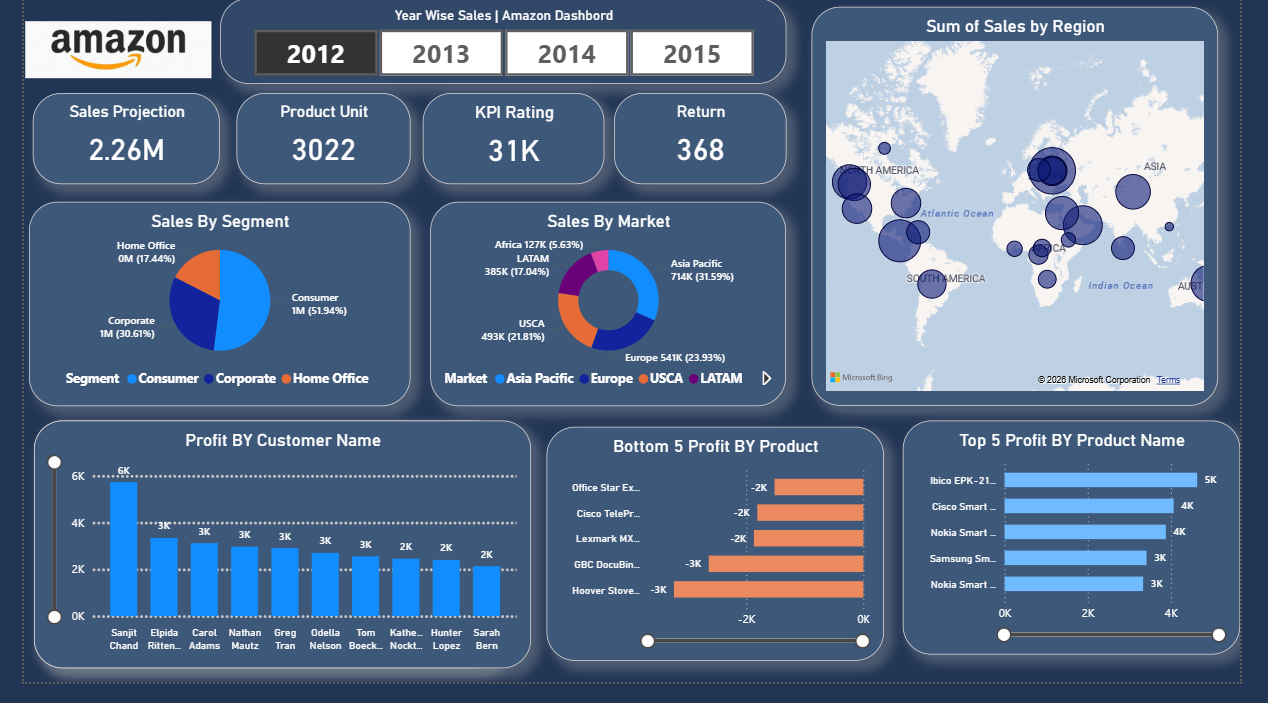

The page's visual inventory and layout, read from the dashboard file:
{"tool":"powerbi","page":{"name":"Report1","canvas":[1280,720],"ordinal":0},"visuals":[{"type":"card","title":"Sales Projection","fields":{"Values":["Orders.Sales"]},"box":[9.9,100,197.2,95.8],"z":0},{"type":"slicer","title":"Year Wise Sales | Amazon Dashbord","fields":{"Values":["Orders.Year"]},"box":[207,0,595.8,90.1],"z":1000},{"type":"image","box":[1.3,9.3,196,90.7],"z":2000},{"type":"card","title":"Product Unit","fields":{"Values":["Orders.Product Name"]},"box":[223.9,100,183.1,95.8],"z":3000},{"type":"card","title":"KPI Rating","fields":{"Values":["Orders.Quantity"]},"box":[419.7,100,191.5,95.8],"z":4000},{"type":"card","title":"Return ","fields":{"Values":["Orders.Ship Date"]},"box":[621.1,100,181.7,95.8],"z":5000},{"type":"map","fields":{"Category":["Orders.Region"],"Size":["Orders.Sales"]},"box":[829.6,9.9,428.2,419.7],"z":6000},{"type":"pieChart","title":"Sales By Segment","fields":{"Y":["Orders.Sales"],"Category":["Orders.Segment"]},"box":[5.6,214.1,401.4,215.5],"z":7000},{"type":"donutChart","title":"Sales By Market","fields":{"Y":["Orders.Sales"],"Category":["Orders.Market"]},"box":[428.2,214.1,374.6,215.5],"z":8000},{"type":"clusteredColumnChart","title":"Profit BY Customer Name","fields":{"Category":["Orders.Customer Name"],"Y":["Orders.Profit"]},"box":[10.7,444.6,494.6,260.7],"z":9000},{"type":"clusteredBarChart","title":"Bottom 5 Profit BY Product","fields":{"Category":["Orders.Product Name"],"Y":["Orders.Profit"]},"box":[550,451.8,355.4,246.4],"z":10000},{"type":"clusteredColumnChart","title":"Profit BY Customer Name","fields":{"Category":["Orders.Customer Name"],"Y":["Orders.Profit"]},"box":[10.7,444.6,523.2,260.7],"z":11000},{"type":"clusteredBarChart","title":"Top 5 Profit BY Product Name","fields":{"Category":["Orders.Product Name"],"Y":["Orders.Profit"]},"box":[925,444.6,355.4,246.4],"z":12000}]}

Visuals, with their boxes in screenshot pixels (x1, y1, x2, y2), scaled from the page's 1280x720 canvas onto the 1268x703 screenshot:
"Sales Projection" card: left=10, top=98, right=205, bottom=191
"Year Wise Sales | Amazon Dashbord" slicer: left=205, top=0, right=795, bottom=88
image: left=1, top=9, right=195, bottom=98
"Product Unit" card: left=222, top=98, right=403, bottom=191
"KPI Rating" card: left=416, top=98, right=605, bottom=191
"Return " card: left=615, top=98, right=795, bottom=191
map - Orders.Region x Orders.Sales: left=822, top=10, right=1246, bottom=419
"Sales By Segment" pieChart: left=6, top=209, right=403, bottom=419
"Sales By Market" donutChart: left=424, top=209, right=795, bottom=419
"Profit BY Customer Name" clusteredColumnChart: left=11, top=434, right=501, bottom=689
"Bottom 5 Profit BY Product" clusteredBarChart: left=545, top=441, right=897, bottom=682
"Profit BY Customer Name" clusteredColumnChart: left=11, top=434, right=529, bottom=689
"Top 5 Profit BY Product Name" clusteredBarChart: left=916, top=434, right=1267, bottom=675
